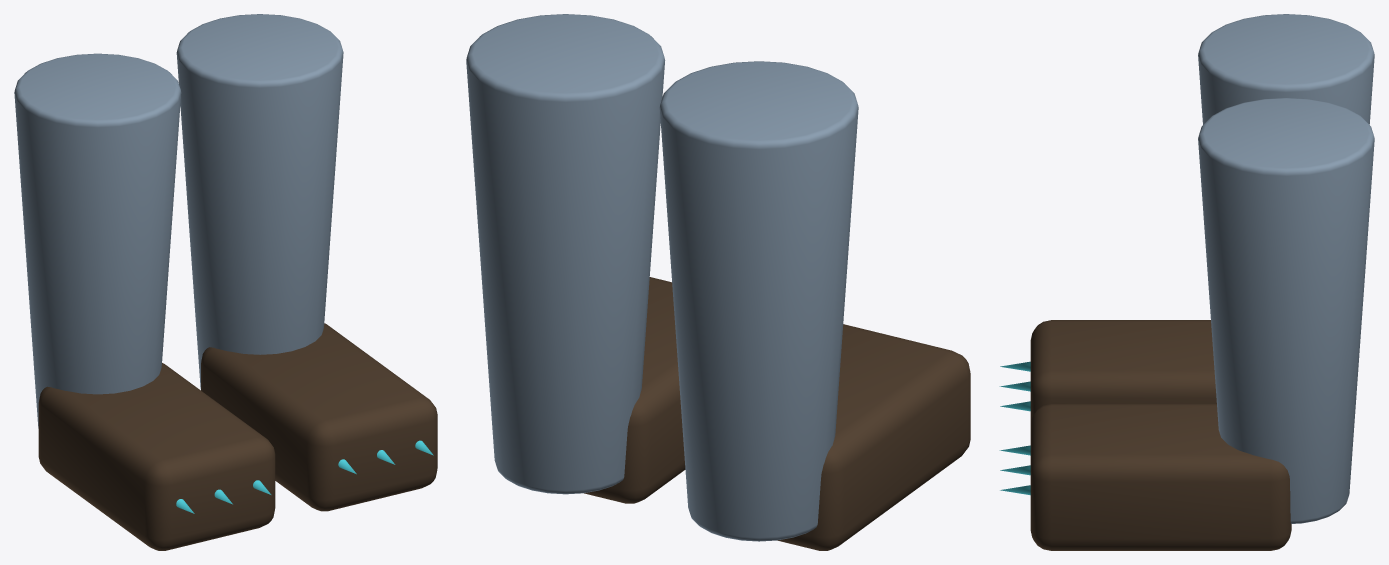
Rendered from boots_v7.glb.
3 renders of one model, left to right at view 1: azimuth 30°, elevation 25°; view 2: azimuth 150°, elevation 25°; view 3: azimuth 270°, elevation 25°, orthographic. The views are drawn at different scales.
Visible parts, largest first — view 1: BONE_BOOT_PRIMARY, BONE_BOOT_PRIMARY.001, CLAWED_FOOT_SECONDARY, CLAWED_FOOT_SECONDARY.001; view 2: BONE_BOOT_PRIMARY, BONE_BOOT_PRIMARY.001, CLAWED_FOOT_SECONDARY, CLAWED_FOOT_SECONDARY.001; view 3: BONE_BOOT_PRIMARY.001, CLAWED_FOOT_SECONDARY.001, CLAWED_FOOT_SECONDARY, BONE_BOOT_PRIMARY.
Part boxes in pixels (left/top/right/bottom): BONE_BOOT_PRIMARY: left=14, top=53, right=181, bottom=428; BONE_BOOT_PRIMARY.001: left=176, top=14, right=343, bottom=388; CLAWED_FOOT_SECONDARY: left=38, top=363, right=275, bottom=550; CLAWED_FOOT_SECONDARY.001: left=201, top=323, right=437, bottom=511; BONE_BOOT_PRIMARY: left=659, top=61, right=858, bottom=541; BONE_BOOT_PRIMARY.001: left=466, top=14, right=665, bottom=494; CLAWED_FOOT_SECONDARY: left=777, top=324, right=970, bottom=550; CLAWED_FOOT_SECONDARY.001: left=584, top=277, right=685, bottom=503; BONE_BOOT_PRIMARY.001: left=1198, top=98, right=1374, bottom=523; CLAWED_FOOT_SECONDARY.001: left=1030, top=404, right=1291, bottom=550; CLAWED_FOOT_SECONDARY: left=1030, top=320, right=1216, bottom=423; BONE_BOOT_PRIMARY: left=1198, top=14, right=1374, bottom=124.
Bounding box in the file's own units: 1.44 × 1.65 × 1.44.
